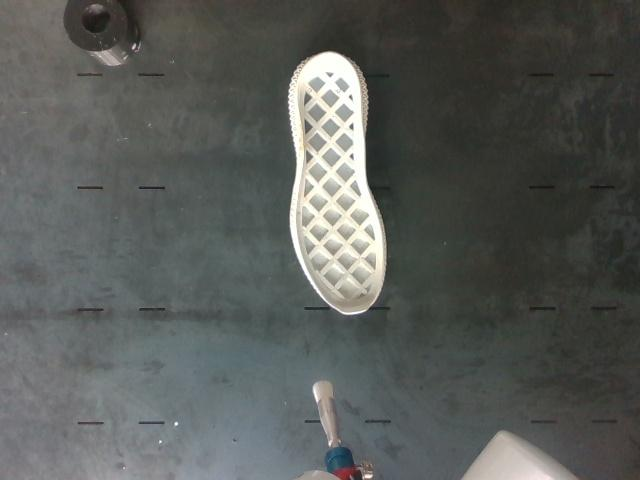shoes: (296, 53, 383, 313)
